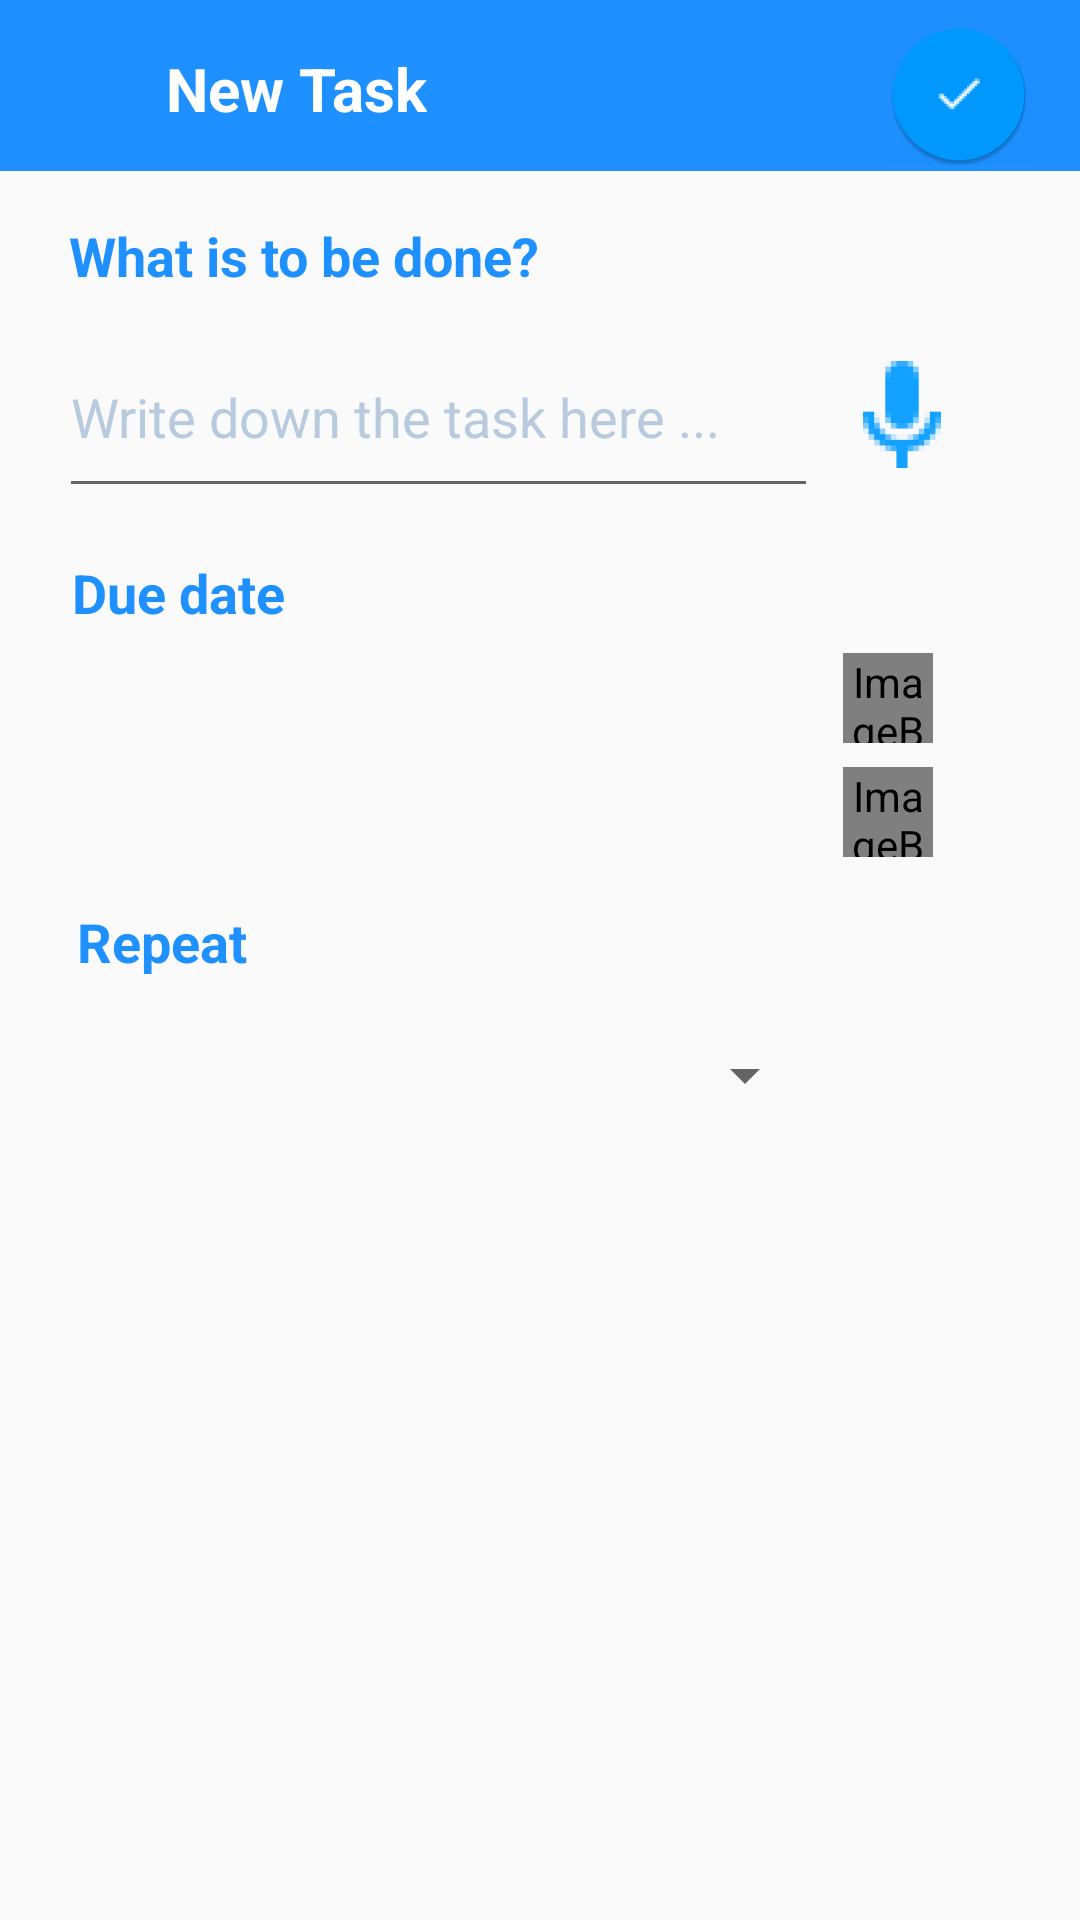

Where to tap for icons on this 1080x1920 app screen, as point (x, y):
check round: point (959, 96)
mic: point (902, 414)
